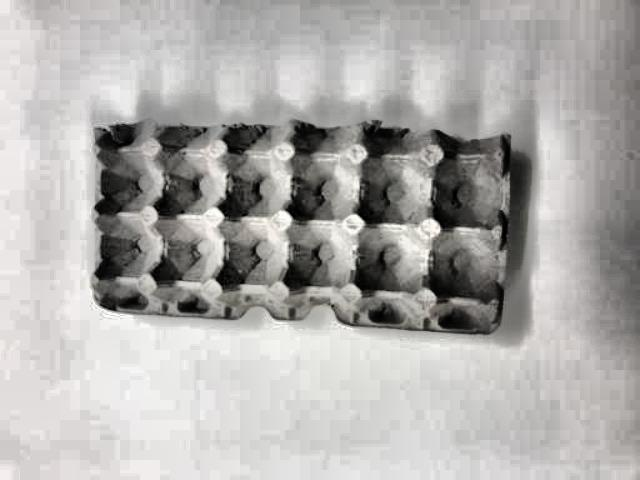Paper: (79, 109, 523, 351)
